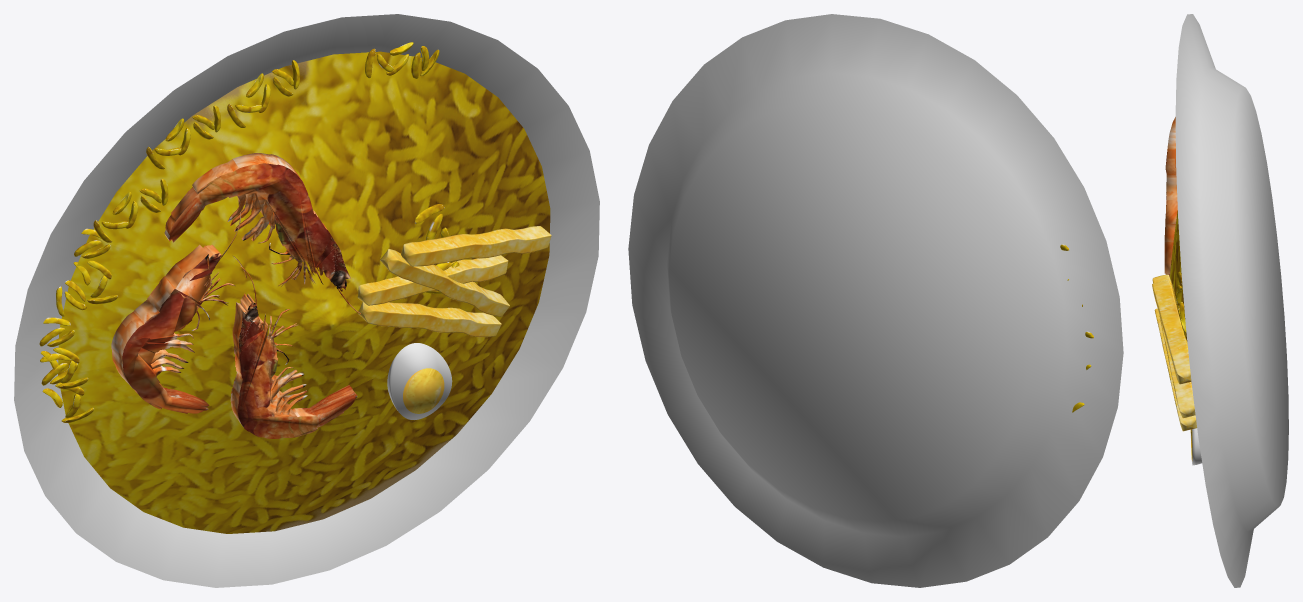
Rendered from smshrimpkabsa-v8.glb.
3 views of the same model, side by side, from view 1: azimuth 30°, elevation 25°; view 2: azimuth 150°, elevation 25°; view 3: azimuth 270°, elevation 25° (orthographic). The views are drawn at different scales.
Parts seen in each view (by area): view 1: Cone, Circle.002, Vert.003, Vert.005, Vert.004, Sphere, Cube.004, Cube.001, Cube.003, Cube.002, Plane.012, Plane.011 (+6 smaller); view 2: Circle.002; view 3: Circle.002, Cube.004, Vert.003, Cube.003, Cone, Cube.001, Sphere, Plane.029.
Part boxes in pixels (x1=…): Cone: x1=58, y1=51, x2=550, y2=533; Circle.002: x1=14, y1=14, x2=599, y2=587; Vert.003: x1=164, y1=153, x2=360, y2=314; Vert.005: x1=111, y1=212, x2=240, y2=413; Vert.004: x1=230, y1=255, x2=357, y2=438; Sphere: x1=387, y1=343, x2=452, y2=419; Cube.004: x1=401, y1=226, x2=551, y2=266; Cube.001: x1=358, y1=302, x2=501, y2=337; Cube.003: x1=380, y1=249, x2=509, y2=316; Cube.002: x1=357, y1=255, x2=508, y2=305; Plane.012: x1=365, y1=42, x2=439, y2=78; Plane.011: x1=227, y1=60, x2=299, y2=127; Circle.002: x1=628, y1=14, x2=1123, y2=587; Circle.002: x1=1175, y1=14, x2=1288, y2=587; Cube.004: x1=1152, y1=280, x2=1191, y2=384; Vert.003: x1=1164, y1=117, x2=1177, y2=276; Cube.003: x1=1152, y1=274, x2=1195, y2=418; Cone: x1=1169, y1=210, x2=1187, y2=341; Cube.001: x1=1154, y1=308, x2=1196, y2=431; Sphere: x1=1190, y1=428, x2=1202, y2=465; Plane.029: x1=1175, y1=271, x2=1186, y2=333.
Size of the model in its own units: 8.73 by 8.68 by 2.07.
20 materials, 18 textured.
